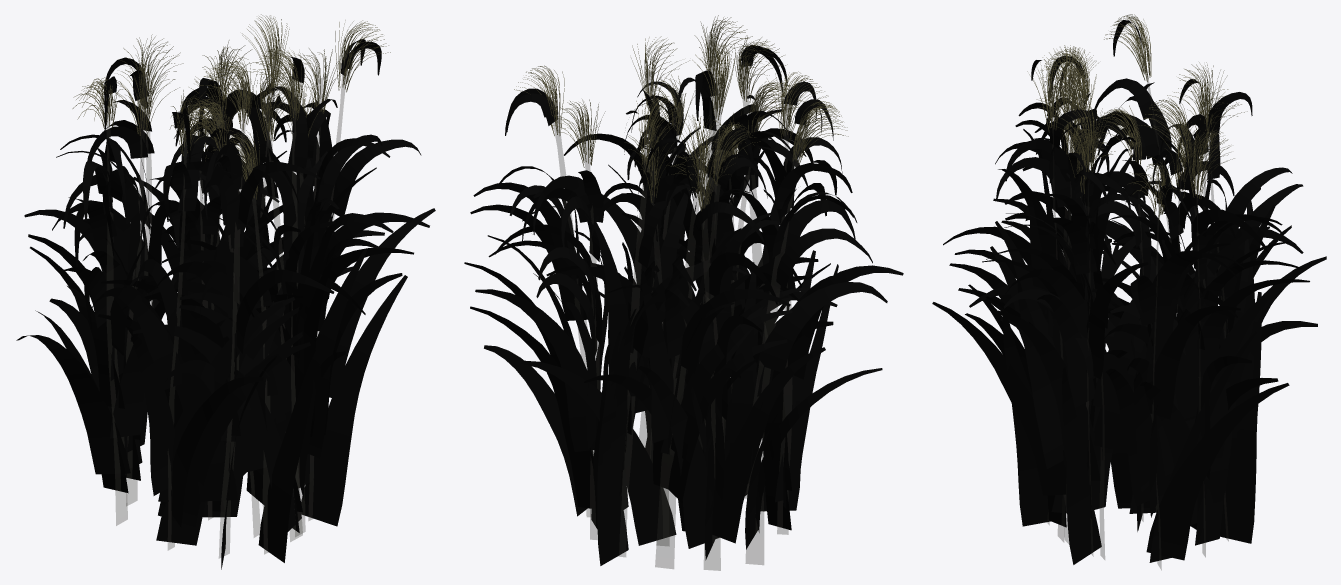
Rendered from Trigo.fbx.
3 renders of one model, left to right at view 1: azimuth 30°, elevation 25°; view 2: azimuth 150°, elevation 25°; view 3: azimuth 270°, elevation 25°, orthographic. The views are drawn at different scales.
Parts seen in each view (by area): view 1: Trigo_03; view 2: Trigo_03; view 3: Trigo_03.
Boxes of the visible parts, bbox=[...] form: Trigo_03: bbox=[16, 14, 435, 569]; Trigo_03: bbox=[464, 15, 903, 570]; Trigo_03: bbox=[932, 14, 1326, 569].
Size of the model in its own units: 2.66 by 3.02 by 2.27.
